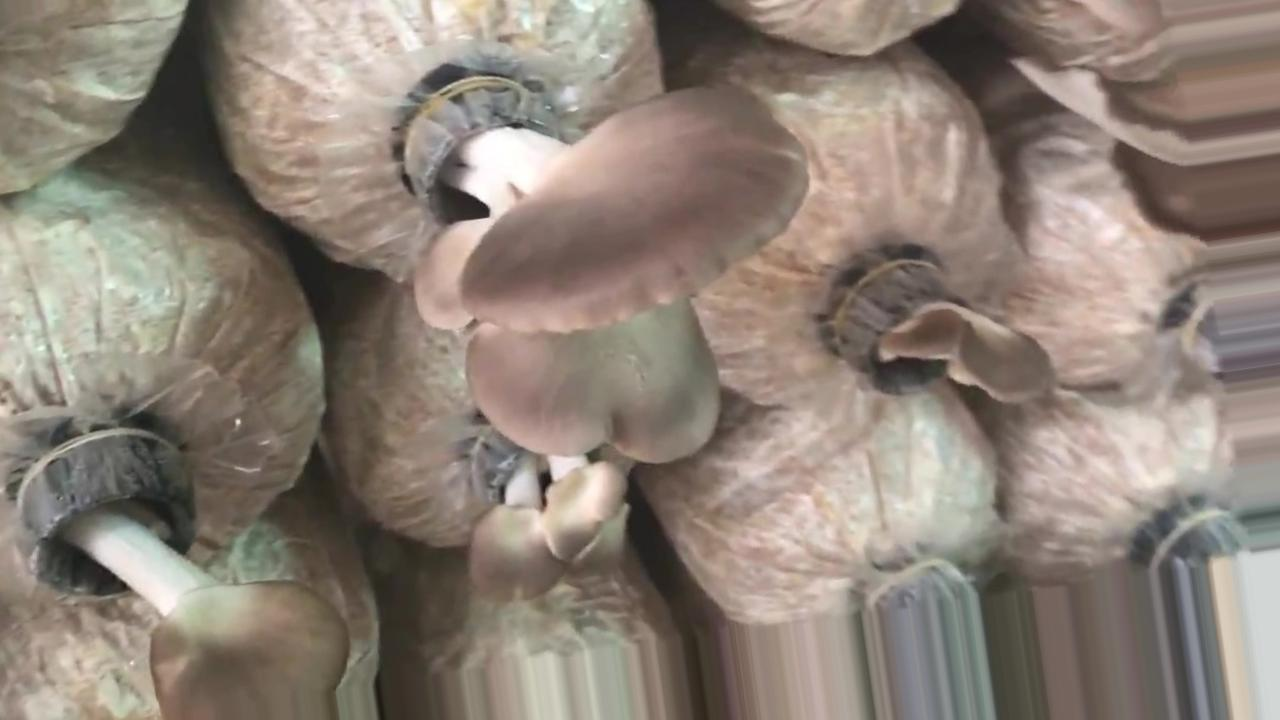nam: (410, 80, 809, 463), (16, 432, 347, 720), (464, 420, 627, 603), (838, 263, 1055, 400)
